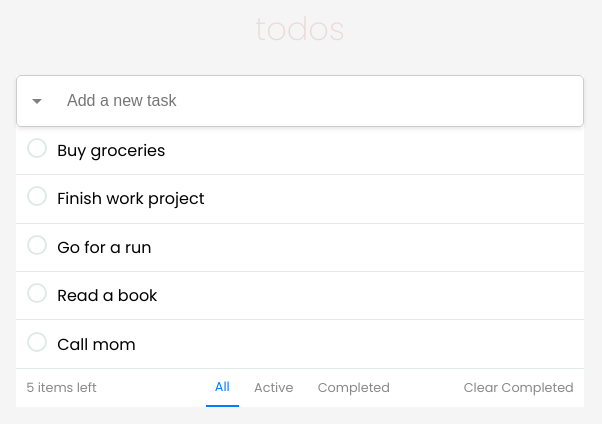
Test: Notes App funcionality › should clear completed todos
The image size is (602, 424).
Click the checkbox labelled "Buy groceries" at (96, 151), box [27,138,165,163]
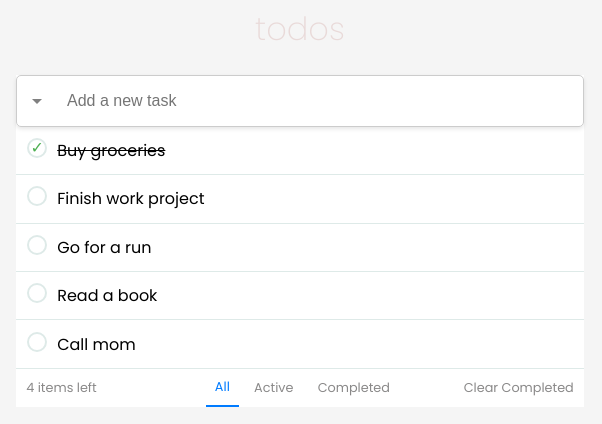
Click the checkbox labelled "Finish work project" at (116, 199), box [27,186,204,211]
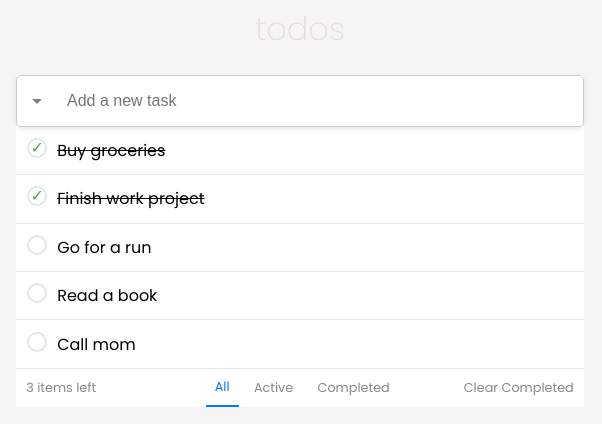
Click the checkbox labelled "Go for a run" at (89, 248), box [27,235,151,260]
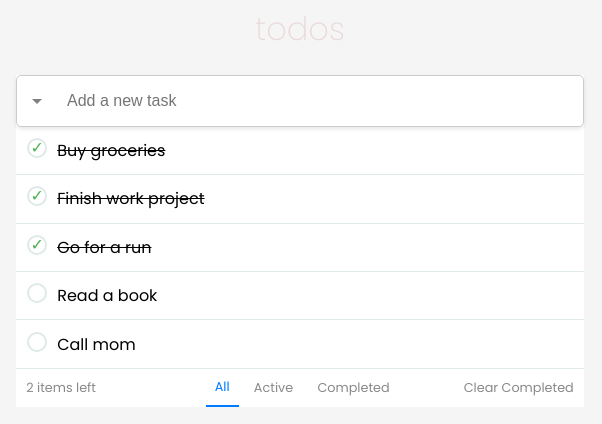
Click the checkbox labelled "Read a book" at (92, 296), box [27,283,157,308]
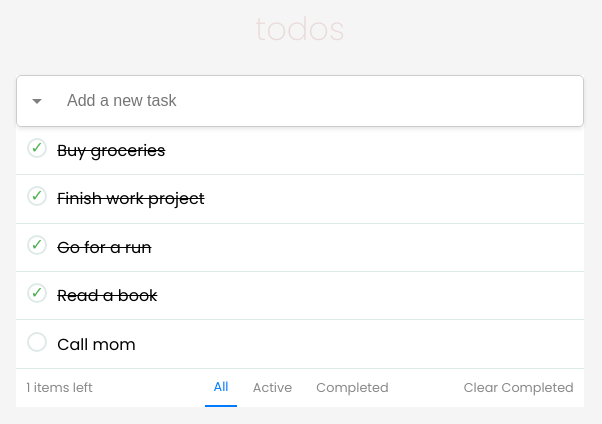
Click the checkbox labelled "Call mom" at (82, 345), box [27,332,136,357]
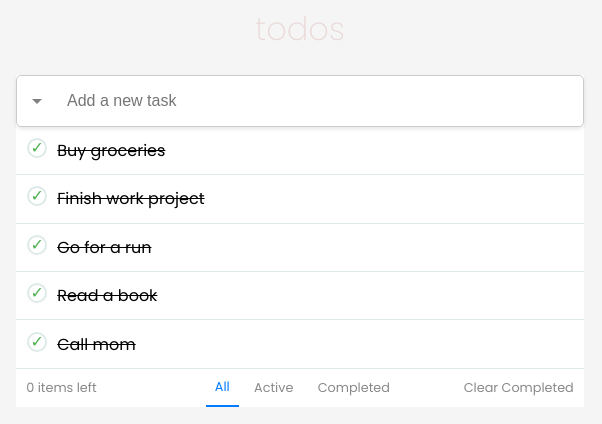
Click the button with class "clear-completed" at (520, 388), box [454,379,585,397]
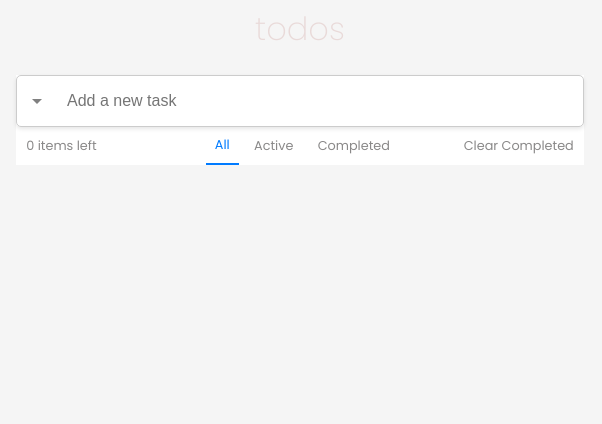
Check: the element with class "checked" is gone
Check: no list items with class "todo-item" are shown
